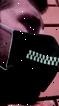with_mask: (2, 2, 59, 106)
